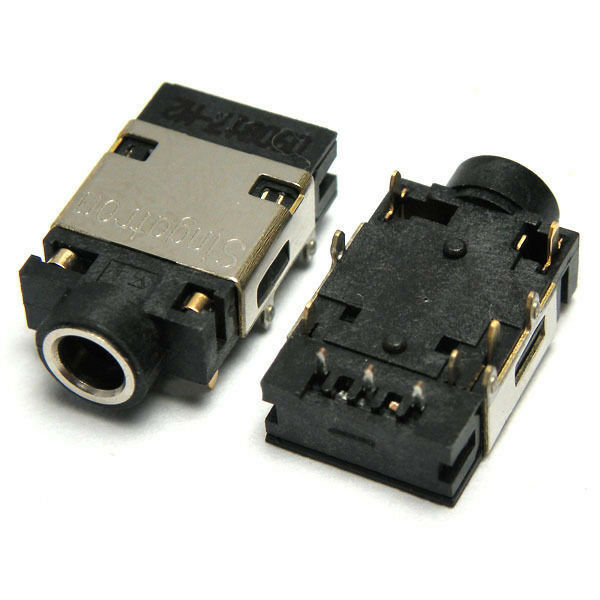aud: (1, 108, 334, 421)
